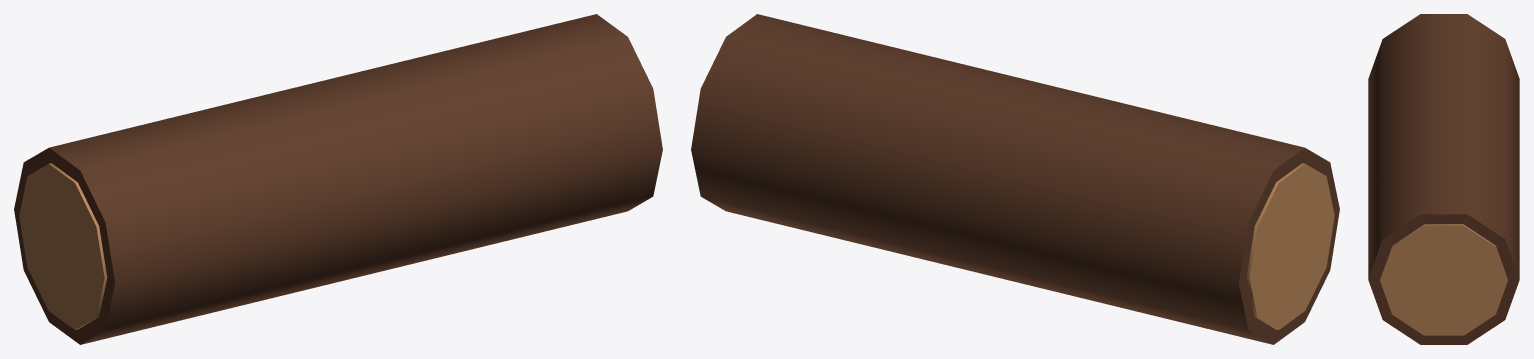
Rendered from log.glb.
The picture shows the model from 3 angles, left to right: view 1: azimuth 30°, elevation 25°; view 2: azimuth 150°, elevation 25°; view 3: azimuth 270°, elevation 25°; orthographic projection. The views are drawn at different scales.
Visible parts, largest first — view 1: log; view 2: log; view 3: log.
Boxes of the visible parts, x1=… form: log: x1=14, y1=14, x2=662, y2=344; log: x1=691, y1=14, x2=1339, y2=344; log: x1=1368, y1=14, x2=1519, y2=344.
Bounding box in the file's own units: 2.02 × 0.6087 × 0.64.
